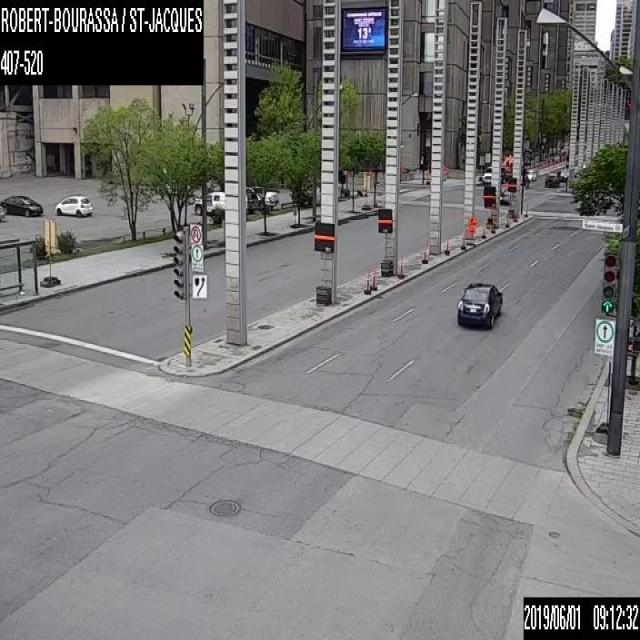construction: (466, 215, 478, 233), (369, 268, 377, 290), (362, 272, 369, 294), (421, 241, 428, 263), (397, 255, 404, 276), (443, 234, 450, 254), (459, 231, 465, 249), (525, 201, 528, 216), (506, 212, 509, 227), (482, 223, 485, 236)
vehicle: (456, 279, 504, 329), (0, 193, 42, 215), (54, 194, 93, 216), (194, 190, 224, 218), (252, 186, 278, 208), (482, 164, 504, 184), (245, 190, 258, 213), (544, 168, 559, 186), (500, 188, 511, 204), (524, 167, 536, 181), (0, 198, 5, 220), (559, 166, 566, 181)
